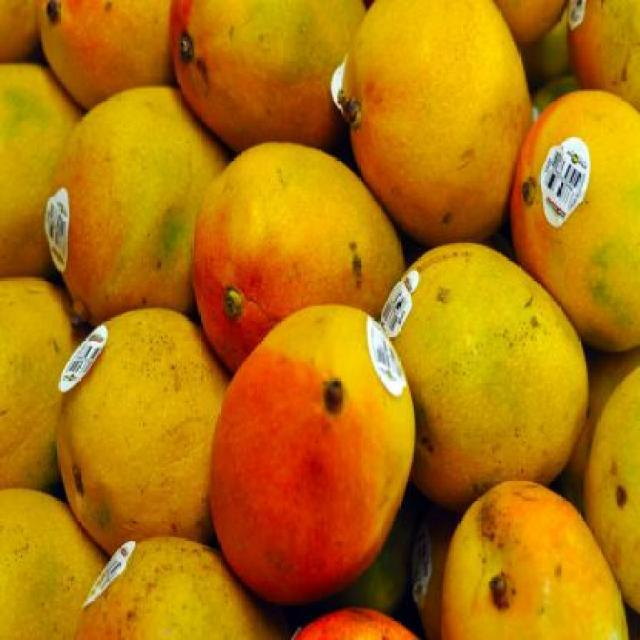Mango: (0, 0, 638, 638), (0, 0, 638, 638), (382, 246, 592, 510), (342, 1, 532, 253), (510, 92, 639, 350)
